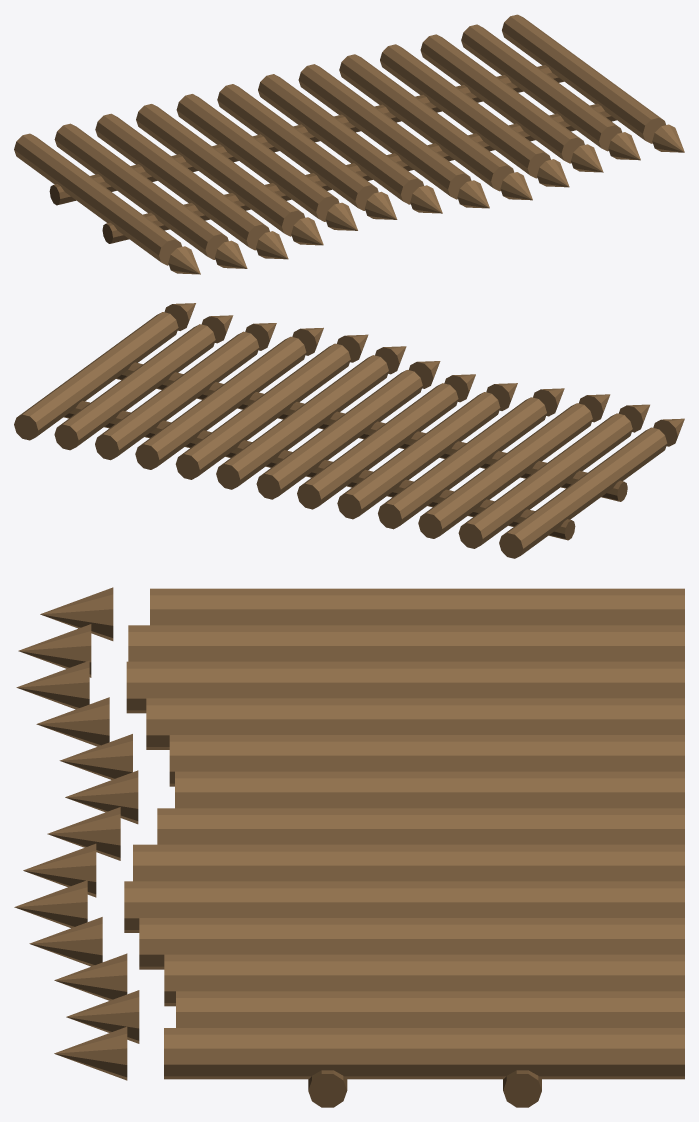
File: palisade_straight.glb
3 renders of one model, top to bottom at view 1: azimuth 30°, elevation 25°; view 2: azimuth 150°, elevation 25°; view 3: azimuth 270°, elevation 25°, orthographic. The views are drawn at different scales.
Parts seen in each view (by area): view 1: world; view 2: world; view 3: world.
Boxes of the visible parts, <box> form: world: <box>14,14,684,274</box>; world: <box>14,303,684,558</box>; world: <box>14,587,684,1107</box>.
Size of the model in its own units: 5.1 by 0.3254 by 3.1.
